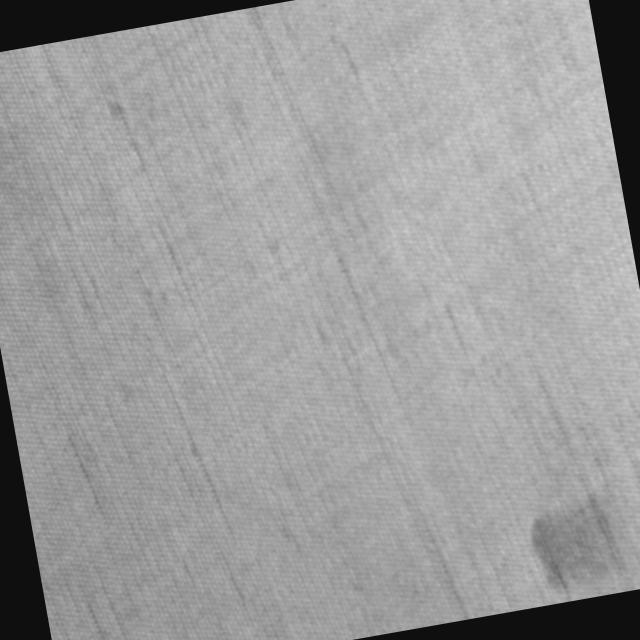oil spot: (518, 472, 632, 598)
